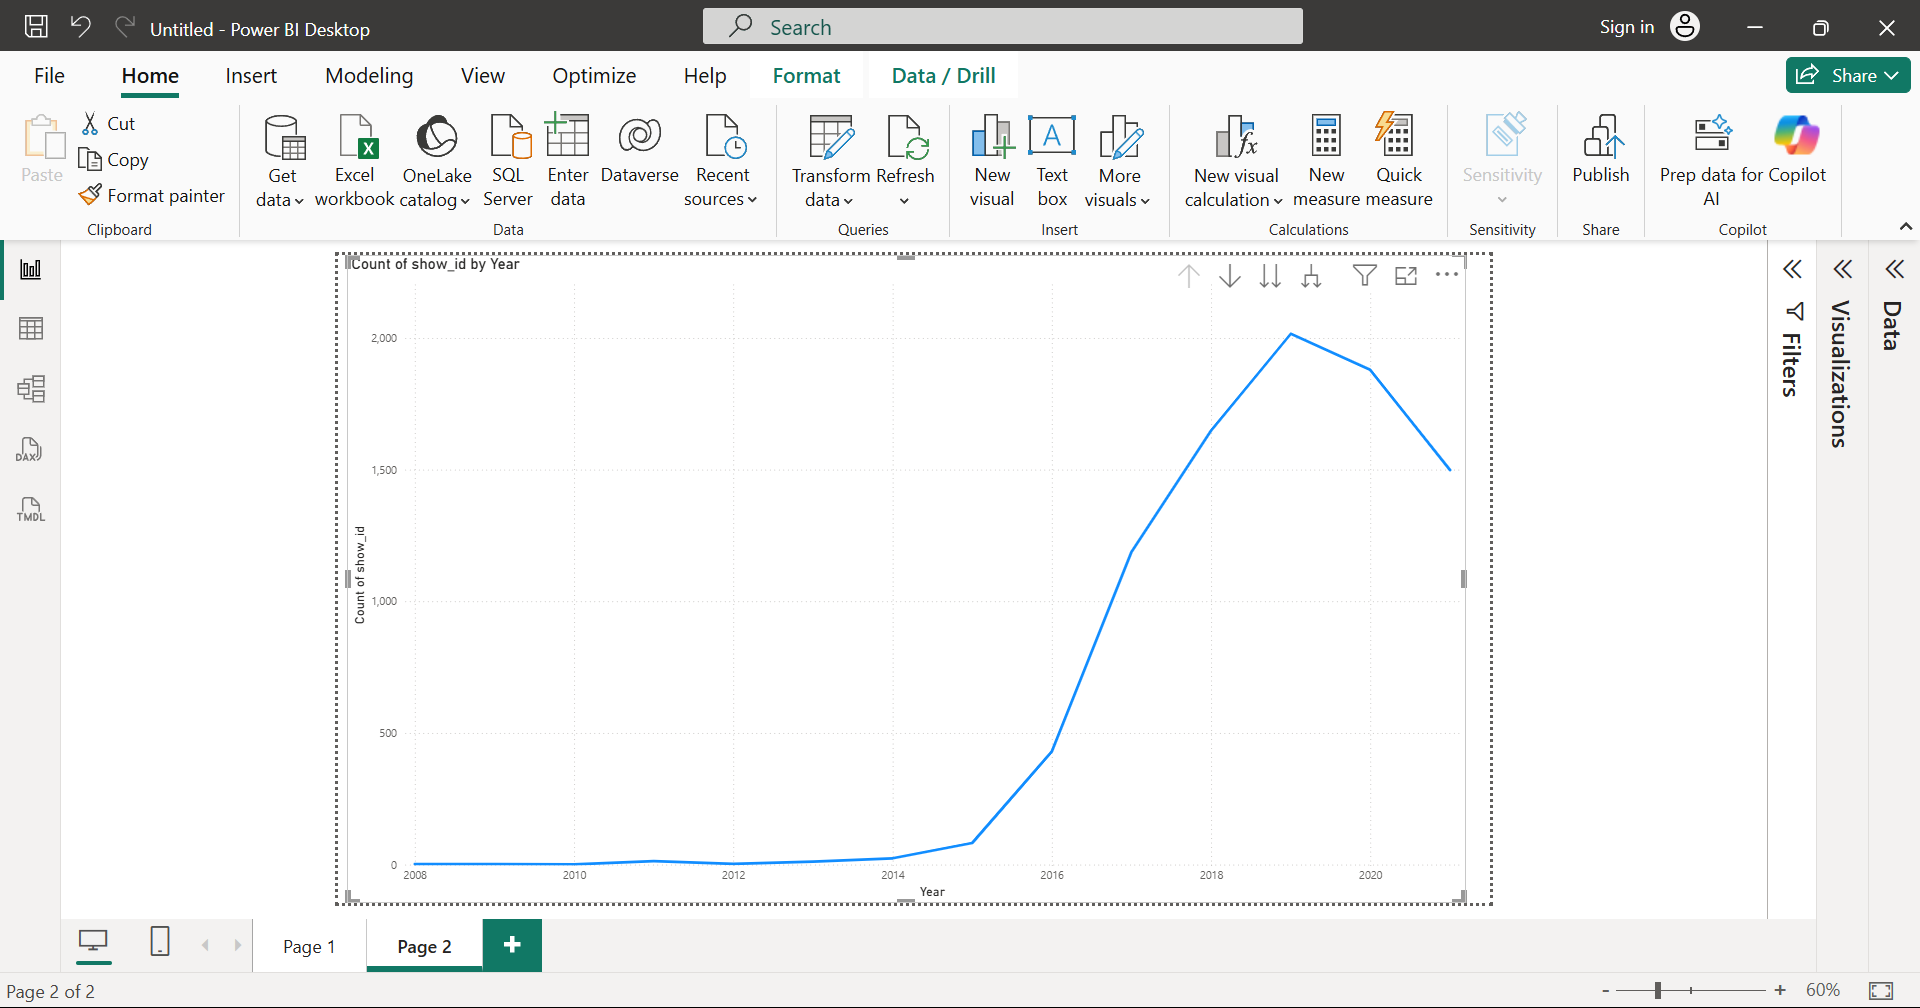

Layout of this report page (visuals, bound fields, positions):
{"tool":"powerbi","page":{"name":"Page 2","canvas":[1280,720],"ordinal":1},"visuals":[{"type":"lineChart","fields":{"Category":["netflix_titles.date_added.Variation.Date Hierarchy.Year","netflix_titles.date_added.Variation.Date Hierarchy.Quarter","netflix_titles.date_added.Variation.Date Hierarchy.Month","netflix_titles.date_added.Variation.Date Hierarchy.Day"],"Y":["CountNonNull(netflix_titles.show_id)"]},"box":[10,0,1243.3,720],"z":0}]}

Visuals, with their boxes on the page's 1280x720 design canvas (x1, y1, x2, y2). These are canvas units, not pixel positions in the 1920x1008 screenshot, which may show the page scaled, cropped or inside an application window:
lineChart - netflix_titles.date_added.Variation.Date Hierarchy.Year x netflix_titles.date_added.Variation.Date Hierarchy.Quarter: <bbox>10, 0, 1253, 720</bbox>
